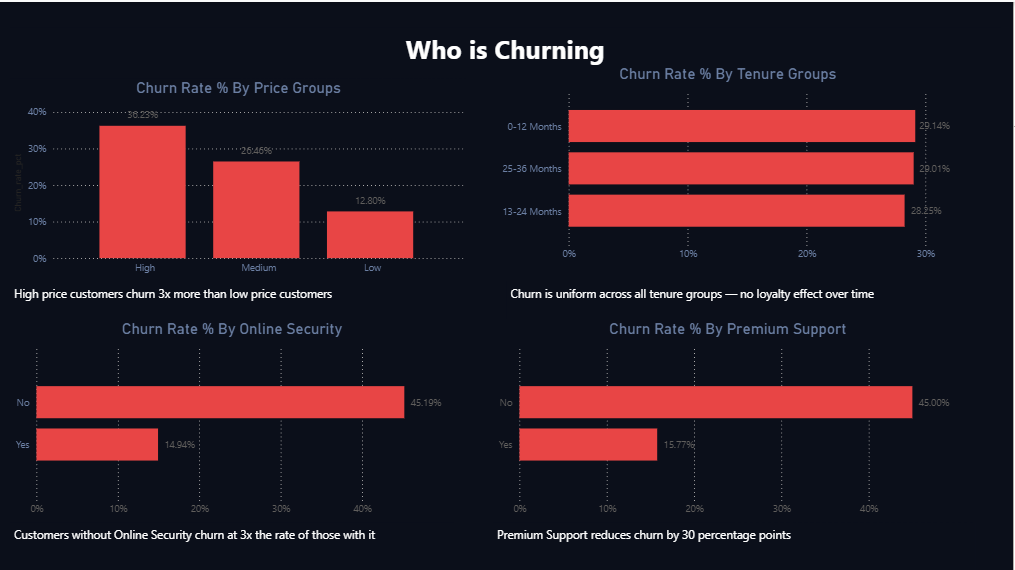

The page's visual inventory and layout, read from the dashboard file:
{"tool":"powerbi","page":{"name":"Who is Churning","canvas":[1280,720],"ordinal":1},"visuals":[{"type":"textbox","box":[16,32,1248,64],"z":0},{"type":"columnChart","title":"Churn Rate % By Price Groups","fields":{"Category":["customer_data.Price group"],"Y":["customer_data.Churn_rate_pct"]},"box":[16,96,576,256],"z":1000},{"type":"barChart","title":"Churn Rate % By Tenure Groups","fields":{"Category":["customer_data.Tenure group"],"Y":["customer_data.Churn_rate_pct"]},"box":[624,80,592,256],"z":2000},{"type":"barChart","title":"Churn Rate % By Online Security","fields":{"Category":["customer_data.Online_Security"],"Y":["customer_data.Churn_rate_pct"]},"box":[16,400,560,256],"z":3000},{"type":"barChart","title":"Churn Rate % By Premium Support","fields":{"Category":["customer_data.Premium_Support"],"Y":["customer_data.Churn_rate_pct"]},"box":[624,400,592,256],"z":4000},{"type":"textbox","box":[16,352,576,48],"z":5000},{"type":"textbox","box":[640,352,592,48],"z":6000},{"type":"textbox","box":[16,656,560,64],"z":7000},{"type":"textbox","box":[624,656,608,64],"z":8000}]}

Visuals, with their boxes in screenshot pixels (x1, y1, x2, y2), scaled from the page's 1280x720 canvas onto the 1015x570 screenshot:
textbox: <box>13,25,1002,76</box>
"Churn Rate % By Price Groups" columnChart: <box>13,76,469,279</box>
"Churn Rate % By Tenure Groups" barChart: <box>495,63,964,266</box>
"Churn Rate % By Online Security" barChart: <box>13,317,457,519</box>
"Churn Rate % By Premium Support" barChart: <box>495,317,964,519</box>
textbox: <box>13,279,469,317</box>
textbox: <box>508,279,977,317</box>
textbox: <box>13,519,457,569</box>
textbox: <box>495,519,977,569</box>
